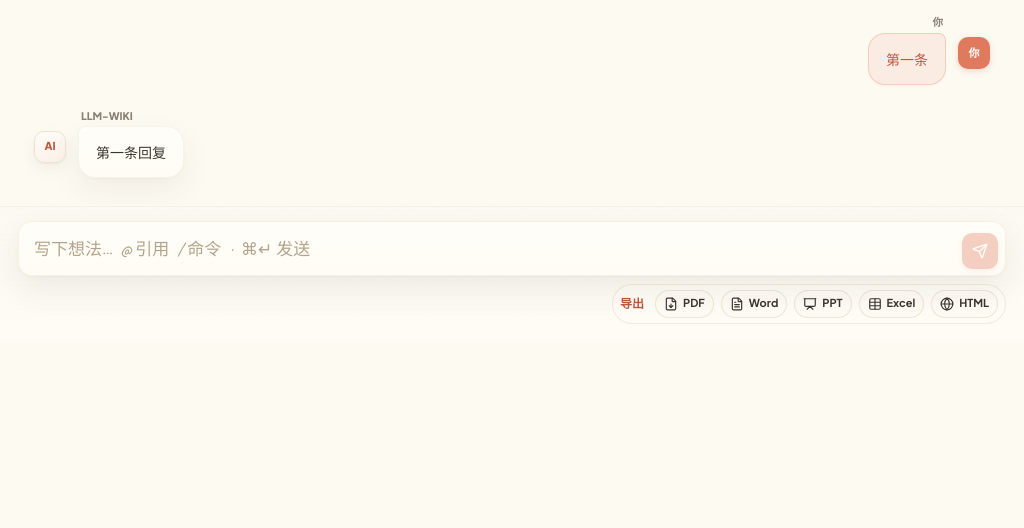
Test: ChatPanel auto scroll › scrolls to the bottom on existing messages and after a streamed reply when follow is active
(page scrolled)
Step 1. Type "继续" into the text box with placeholder "写下想法… @ 引用 / 命令 · ⌘↵ 发送" → point(494, 248), box top-left (34, 228), bottom-right (954, 269)
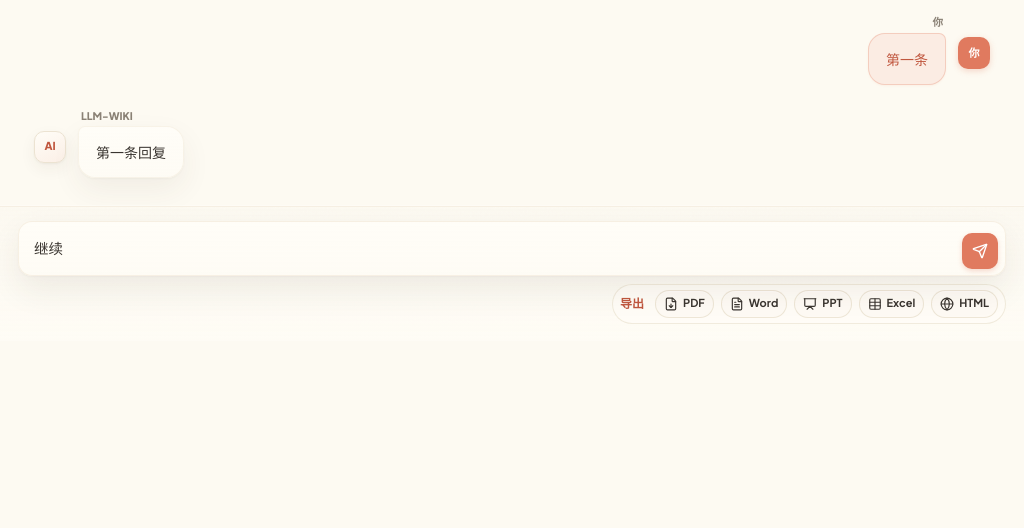
Step 2. Press Enter in the text box with placeholder "写下想法… @ 引用 / 命令 · ⌘↵ 发送", box top-left (34, 228), bottom-right (954, 269)
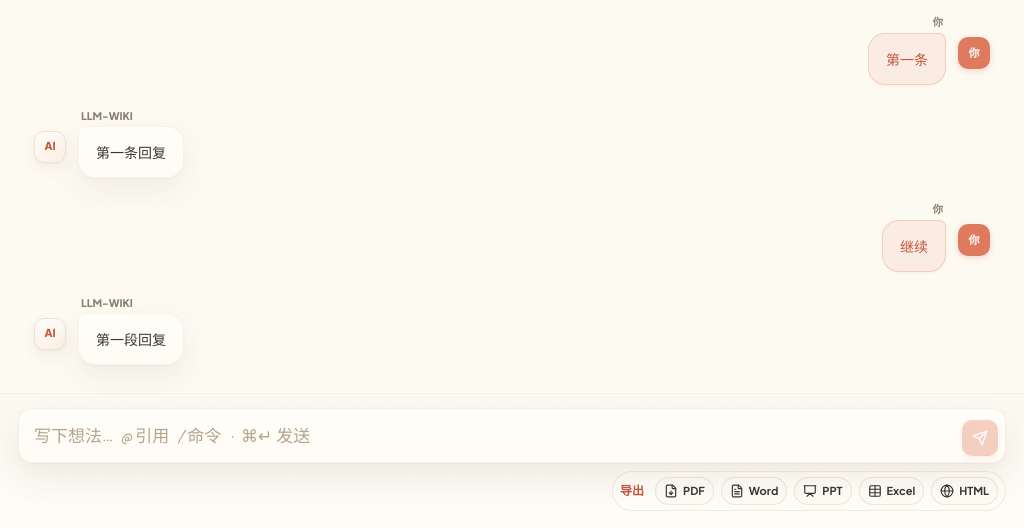
Expected: the text "第一段回复" is shown, top-left (96, 327), bottom-right (166, 351)
